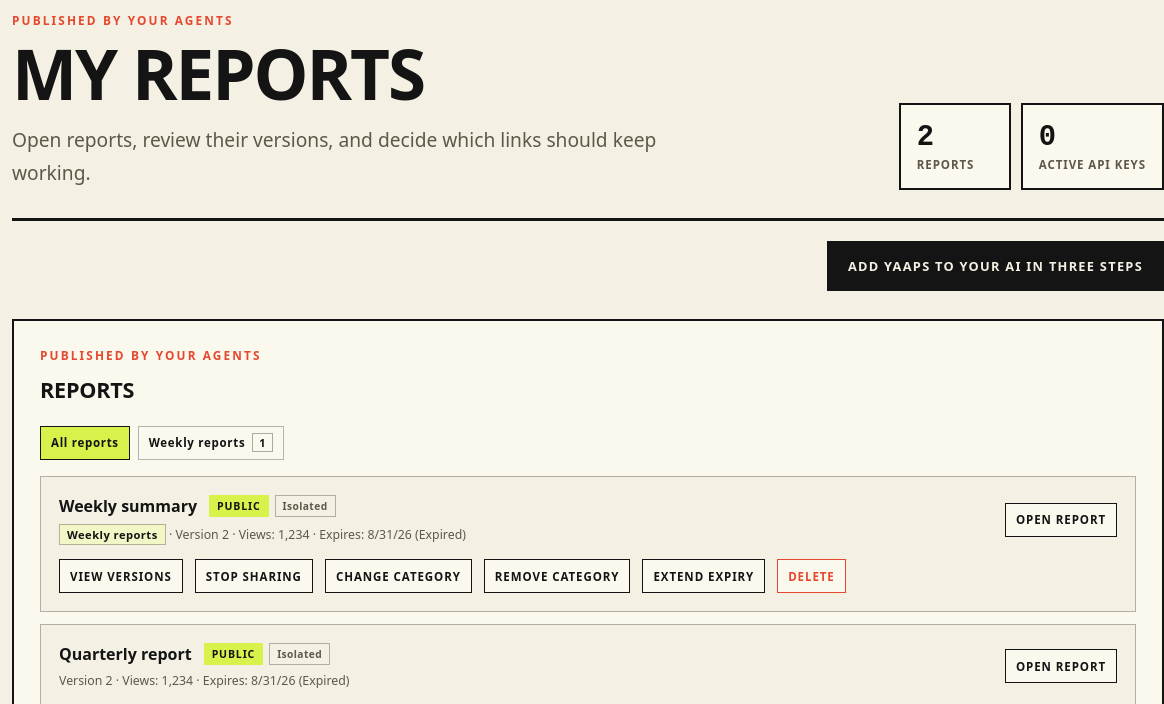
Test: signed-in management dashboard › asks the server for one category and back for every report
Click the button "Weekly reports 1" at coordinates (211, 443), box 138,426 -> 284,460
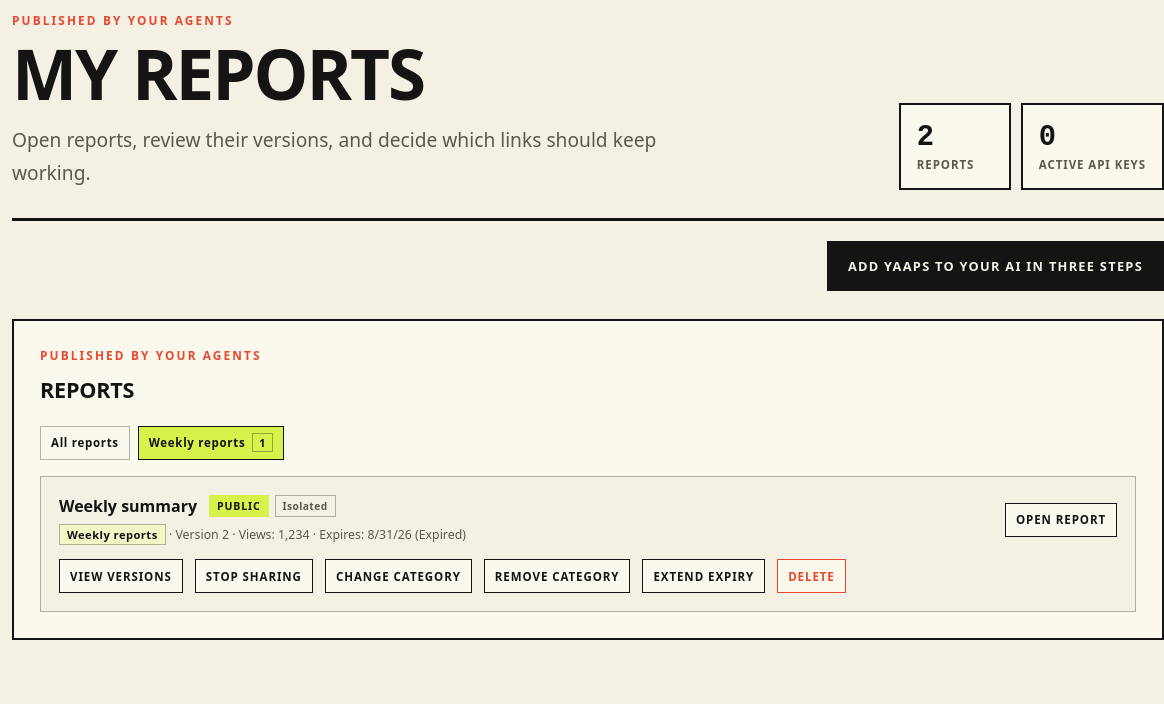
Check: the link "Quarterly report" is gone
Click the button "All reports" at coordinates (85, 443), box 40,426 -> 130,460
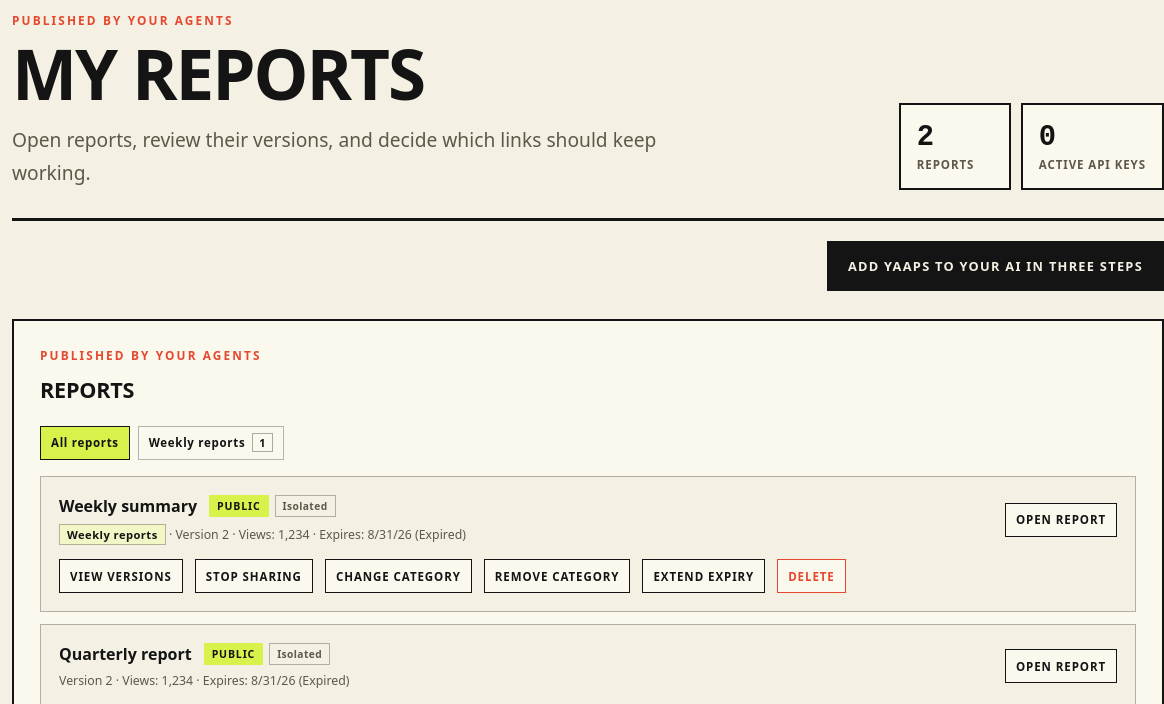
Check: the link "Quarterly report" is shown, box 59,643 -> 192,665
